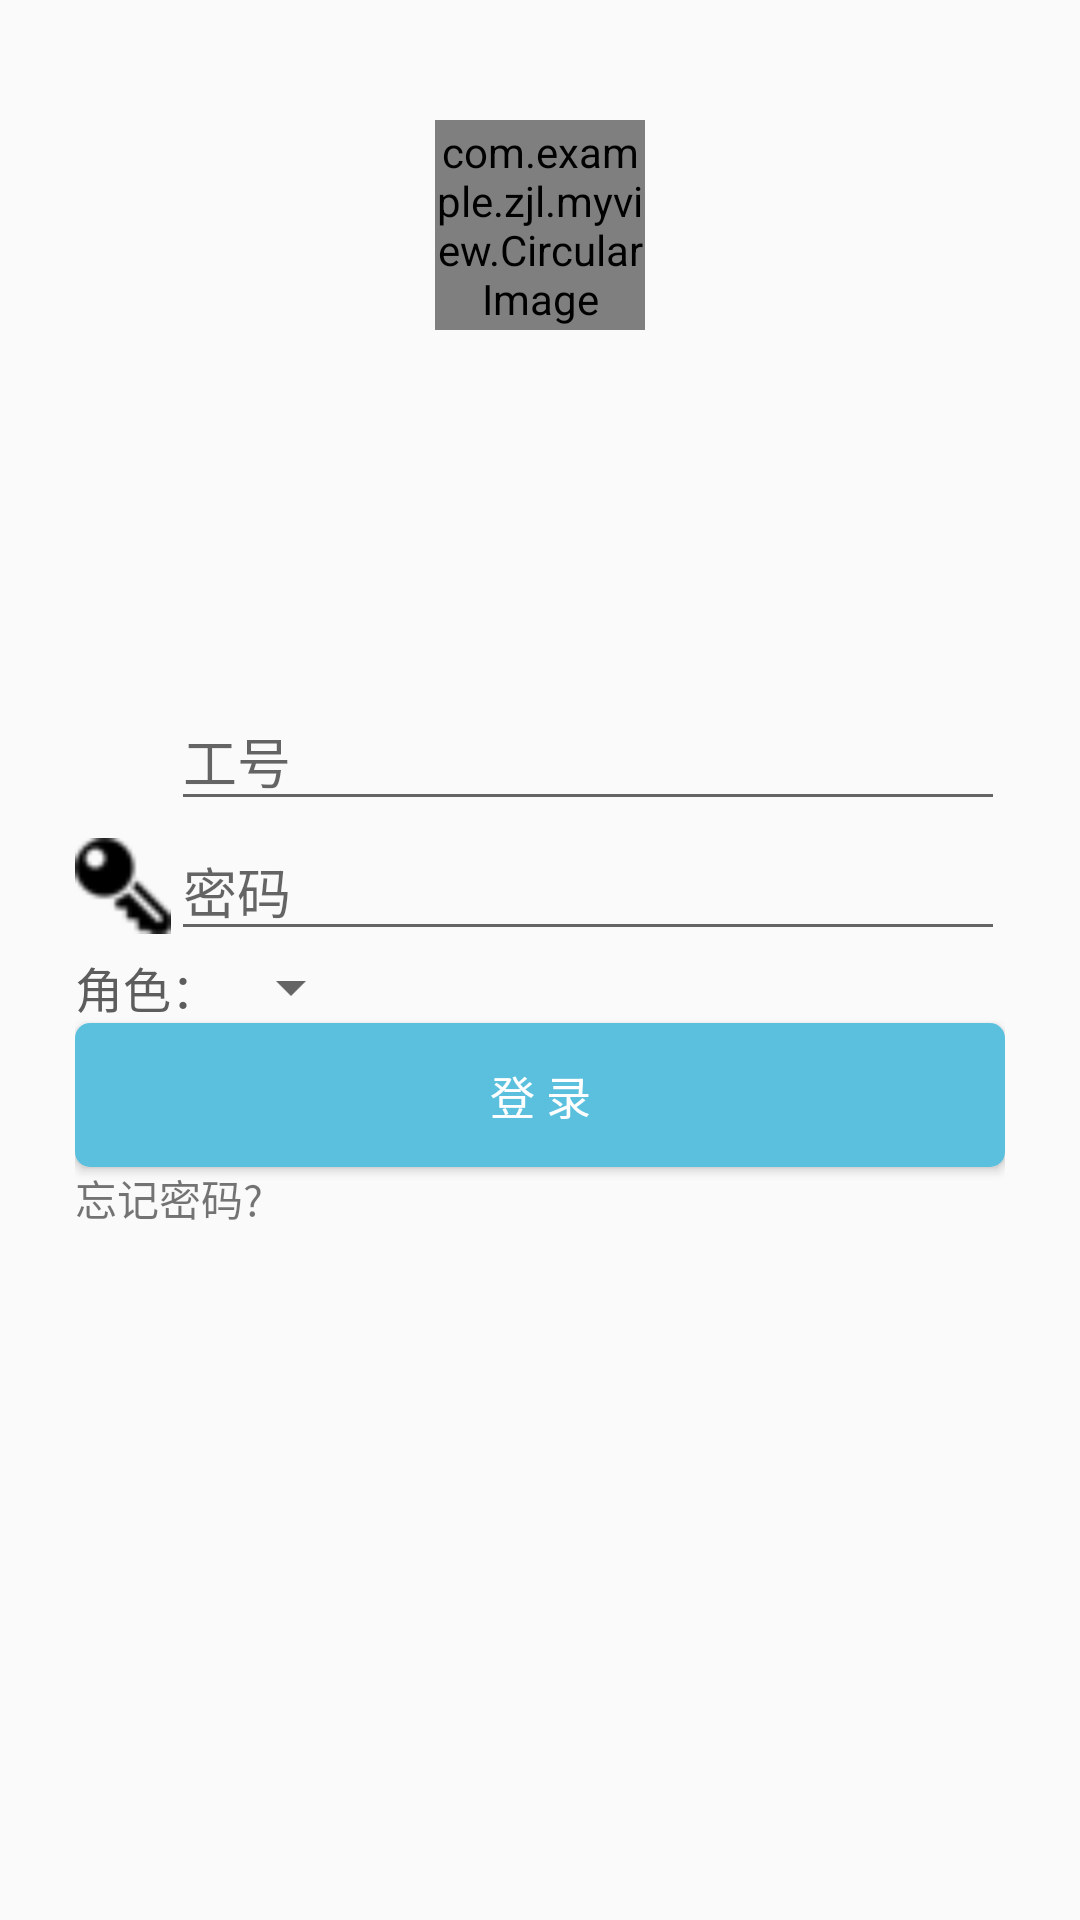

Where to tap for icons on this 1080px×1920px app screen, as (x,y):
key: (123,886)
